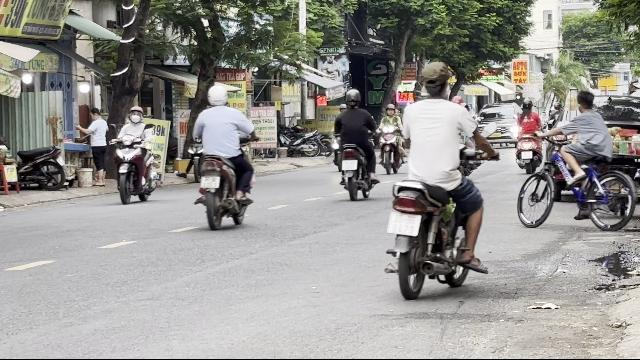helmet: (418, 60, 454, 98), (206, 84, 228, 106), (344, 88, 361, 108), (128, 105, 142, 123)
licenseplate: (387, 212, 421, 236), (201, 175, 219, 187), (342, 160, 358, 170)
motorcyclist: (382, 60, 493, 300), (189, 82, 257, 228), (332, 88, 378, 200), (111, 104, 162, 204)
nohelmet: (418, 60, 454, 98)
